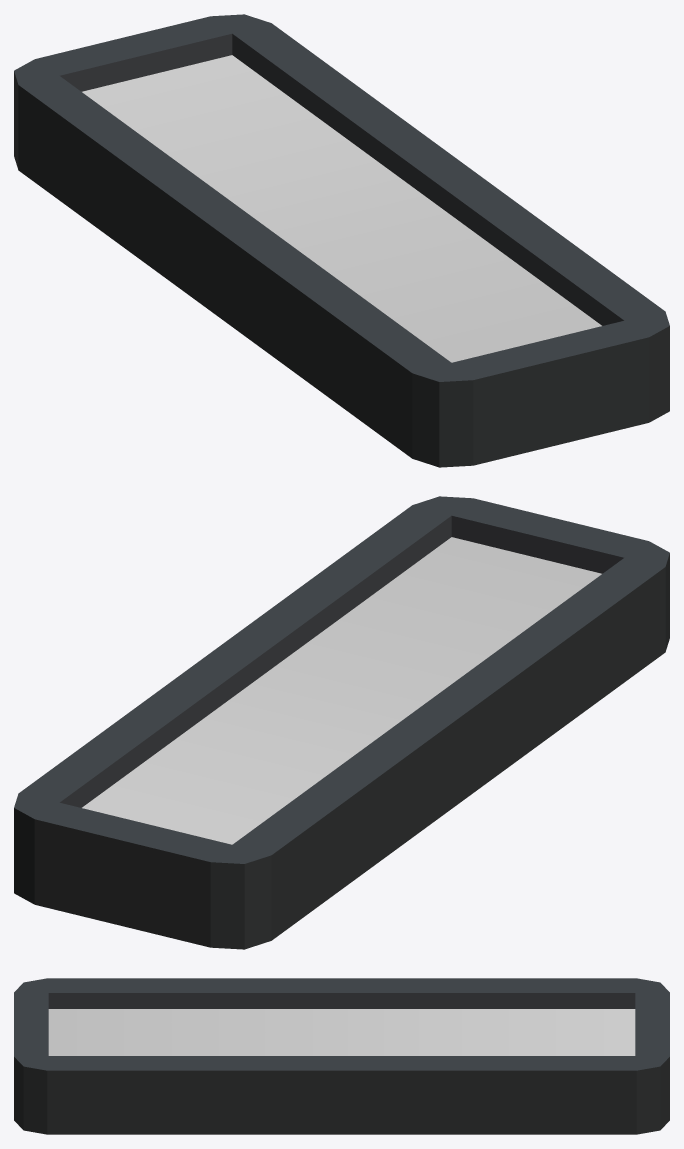
File: LightBlock_03.glb
3 renders of one model, top to bottom at view 1: azimuth 30°, elevation 25°; view 2: azimuth 150°, elevation 25°; view 3: azimuth 270°, elevation 25°, orthographic. The views are drawn at different scales.
Parts seen in each view (by area): view 1: LightBlock_03; view 2: LightBlock_03; view 3: LightBlock_03.
Boxes of the visible parts, x1,y1,x2,y2 form: LightBlock_03: (14, 14, 669, 467); LightBlock_03: (14, 496, 669, 949); LightBlock_03: (14, 978, 669, 1134).
Size of what is drawn, in the model's own units: 0.6667 by 0.2152 by 2.
1 material, 1 textured.
